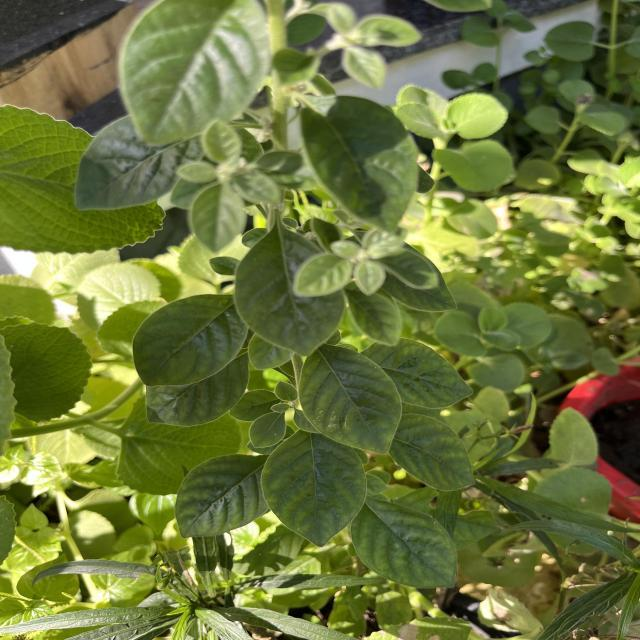Aerva lanata: (258, 430, 370, 549), (294, 343, 404, 456), (128, 292, 250, 390), (348, 494, 461, 592), (360, 334, 477, 412), (384, 410, 478, 492)
